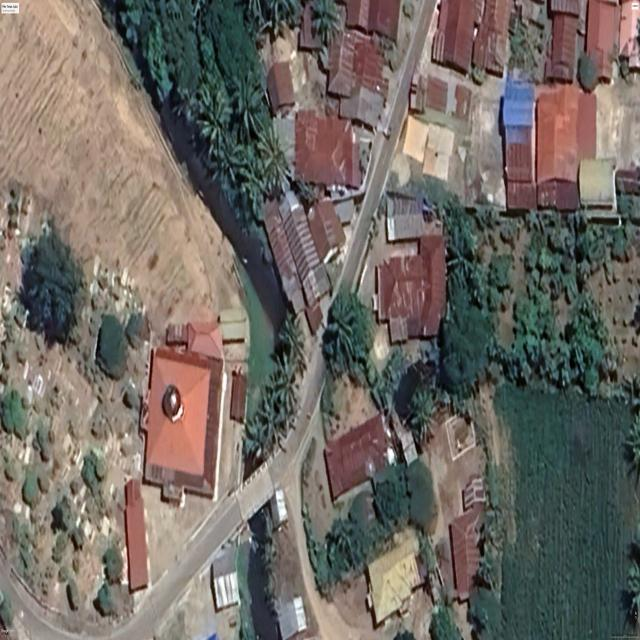Home: (501, 78, 597, 212), (374, 193, 446, 343), (265, 191, 330, 335), (324, 414, 396, 501), (432, 0, 513, 77), (327, 31, 388, 128), (365, 529, 424, 626), (294, 110, 362, 188), (449, 474, 486, 602), (545, 0, 580, 83), (585, 0, 620, 81), (308, 198, 346, 264), (345, 0, 401, 42), (425, 75, 448, 113)
mosque: (140, 322, 226, 501)
